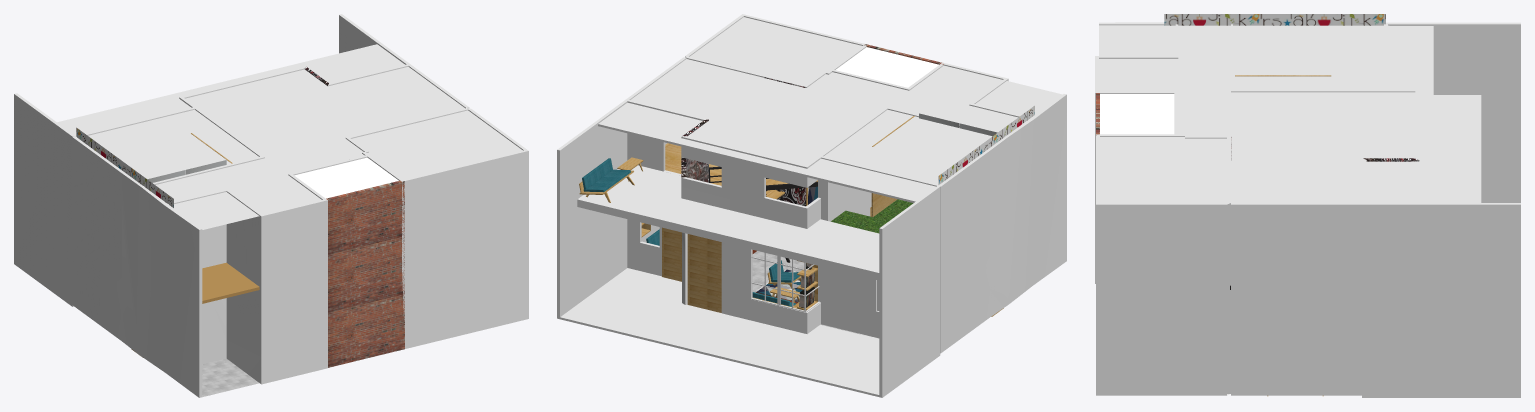
The picture shows the model from 3 angles, left to right: view 1: azimuth 30°, elevation 25°; view 2: azimuth 150°, elevation 25°; view 3: azimuth 270°, elevation 25°; orthographic projection. The views are drawn at different scales.
Visible parts, largest first — view 1: Plane.001, Plane.005, Plane.002, Plane, abc-wallpaper-baby-color-by-osborne-park; view 2: Plane.001, Plane.005, Plane.023, Plane.020, Plane.002, Cube.022, Plane.011, abc-wallpaper-baby-color-by-osborne-park, Plane, Plane.013, Plane.004, Cube.006 (+1 smaller); view 3: Plane.001, Plane.005, Plane.023, abc-wallpaper-baby-color-by-osborne-park.
Part boxes in pixels (bbox=[...]): Plane.001: bbox=[14, 14, 528, 397]; Plane.005: bbox=[88, 66, 522, 229]; Plane.002: bbox=[202, 262, 259, 303]; Plane: bbox=[202, 358, 259, 396]; abc-wallpaper-baby-color-by-osborne-park: bbox=[76, 127, 173, 207]; Plane.001: bbox=[557, 14, 1066, 397]; Plane.005: bbox=[630, 17, 1062, 186]; Plane.023: bbox=[577, 165, 879, 280]; Plane.020: bbox=[687, 234, 721, 312]; Plane.002: bbox=[665, 143, 913, 233]; Cube.022: bbox=[579, 158, 634, 202]; Plane.011: bbox=[662, 227, 681, 281]; abc-wallpaper-baby-color-by-osborne-park: bbox=[938, 105, 1034, 184]; Plane: bbox=[752, 250, 877, 338]; Plane.013: bbox=[751, 253, 819, 311]; Plane.004: bbox=[665, 144, 721, 183]; Cube.006: bbox=[764, 77, 805, 206]; Plane.001: bbox=[1095, 22, 1520, 397]; Plane.005: bbox=[1099, 25, 1415, 202]; Plane.023: bbox=[1433, 95, 1481, 202]; abc-wallpaper-baby-color-by-osborne-park: bbox=[1164, 14, 1385, 25].
Size of the model in its own units: 8.18 by 4.32 by 8.06.
21 materials, 15 textured.
